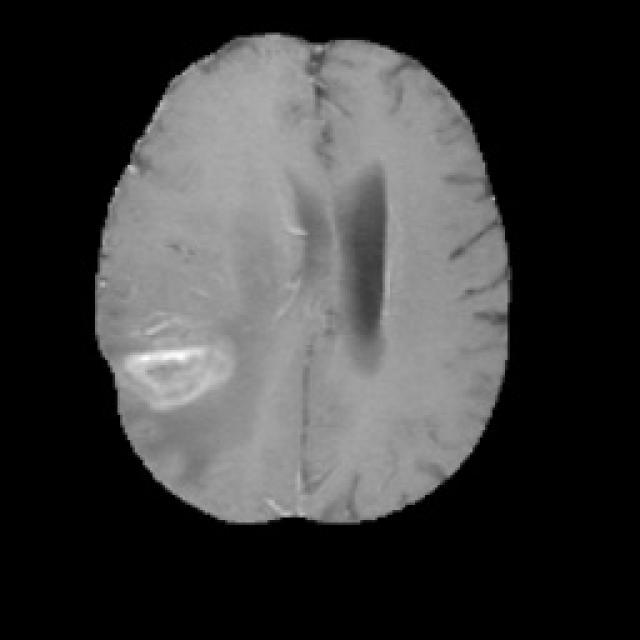negative: (119, 336, 229, 409)
